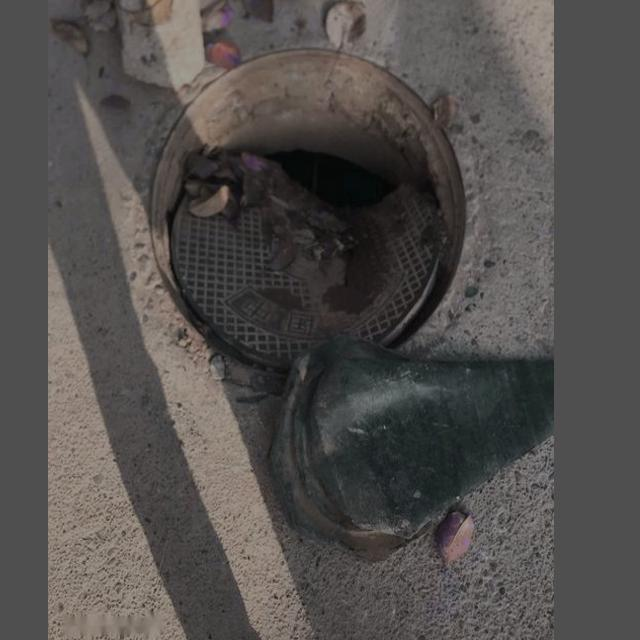broke: (132, 37, 489, 376)
